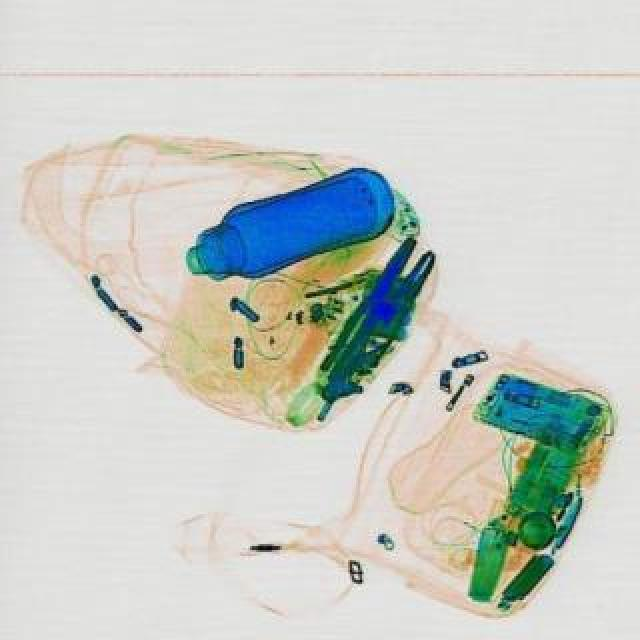wrench: (324, 242, 440, 396)
